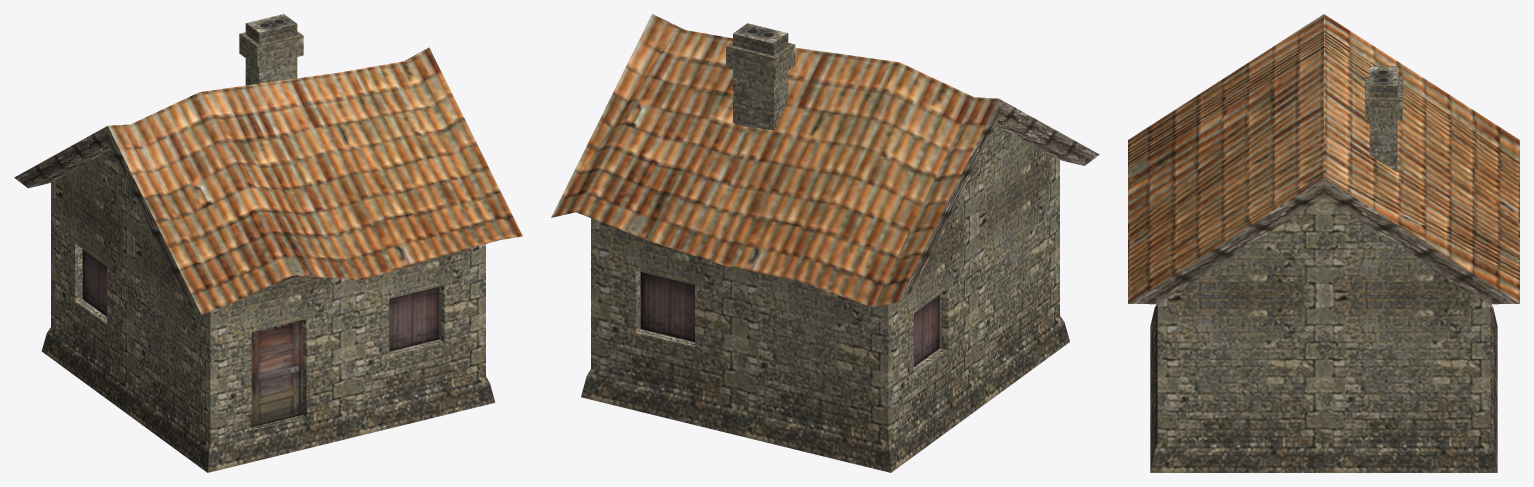
Rendered from s44_b_house_1_1.dae.
The picture shows the model from 3 angles, left to right: view 1: azimuth 30°, elevation 25°; view 2: azimuth 150°, elevation 25°; view 3: azimuth 270°, elevation 25°; orthographic projection. The views are drawn at different scales.
Parts seen in each view (by area): view 1: s44_b_house_1_1; view 2: s44_b_house_1_1; view 3: s44_b_house_1_1.
Part boxes in pixels (left/top/right/bottom): s44_b_house_1_1: left=14, top=14, right=522, bottom=472; s44_b_house_1_1: left=551, top=14, right=1099, bottom=472; s44_b_house_1_1: left=1128, top=14, right=1519, bottom=472.
Size of the model in its own units: 56 by 56.55 by 54.08.
1 material, 1 textured.
